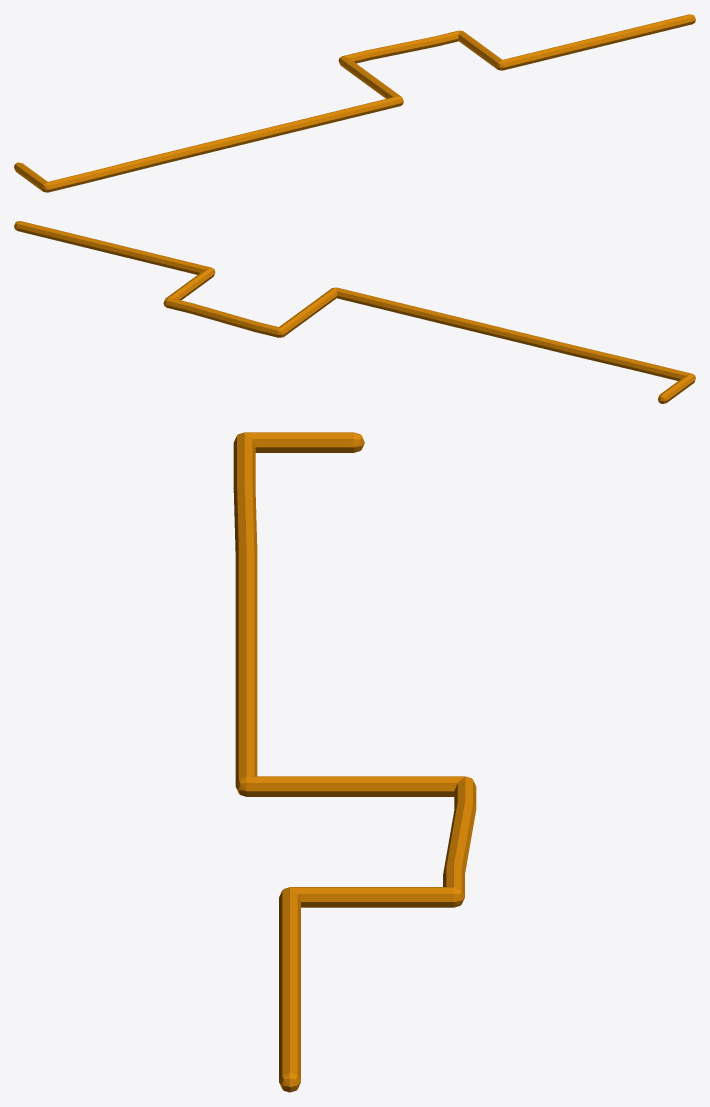
The picture shows the model from 3 angles, top to bottom: view 1: azimuth 30°, elevation 25°; view 2: azimuth 150°, elevation 25°; view 3: azimuth 270°, elevation 25°; orthographic projection. The views are drawn at different scales.
Size of the model in its own units: 1404 by 20 by 222.
